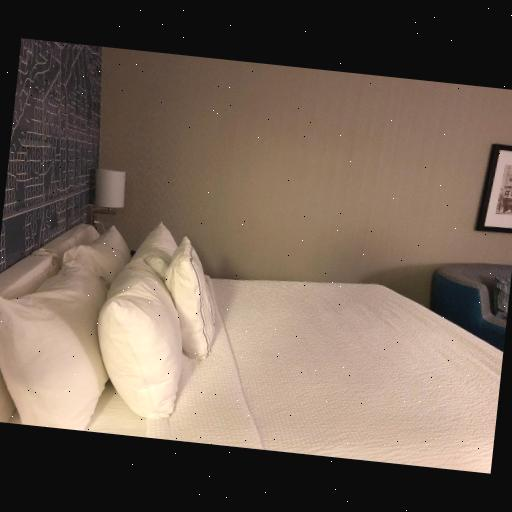clean_bed: (0, 222, 503, 475)
lamp: (86, 152, 137, 220)
organised_pillow: (0, 224, 227, 432)
